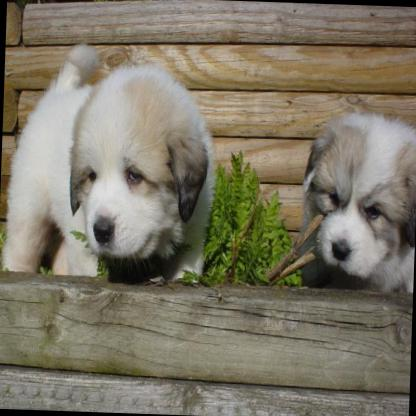Great_Pyrenees: (0, 38, 222, 283), (295, 108, 416, 290)
